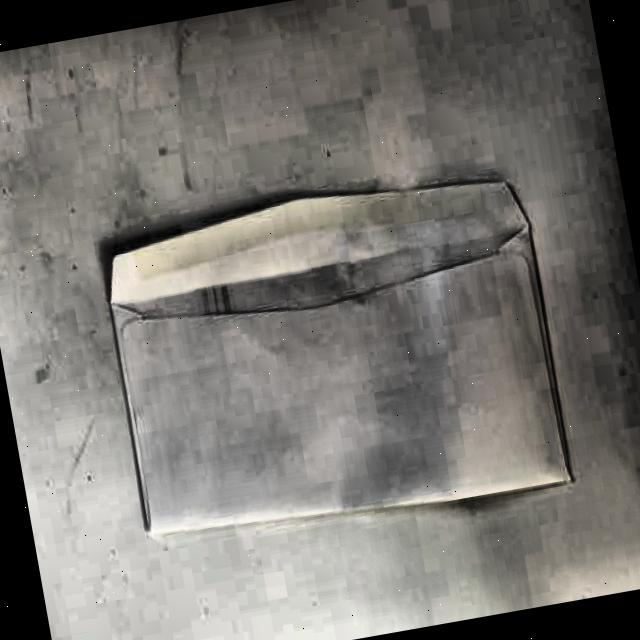paper: (100, 152, 587, 570)
